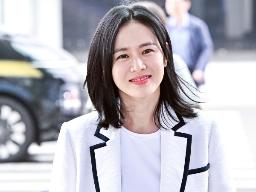face: (114, 27, 162, 97)
